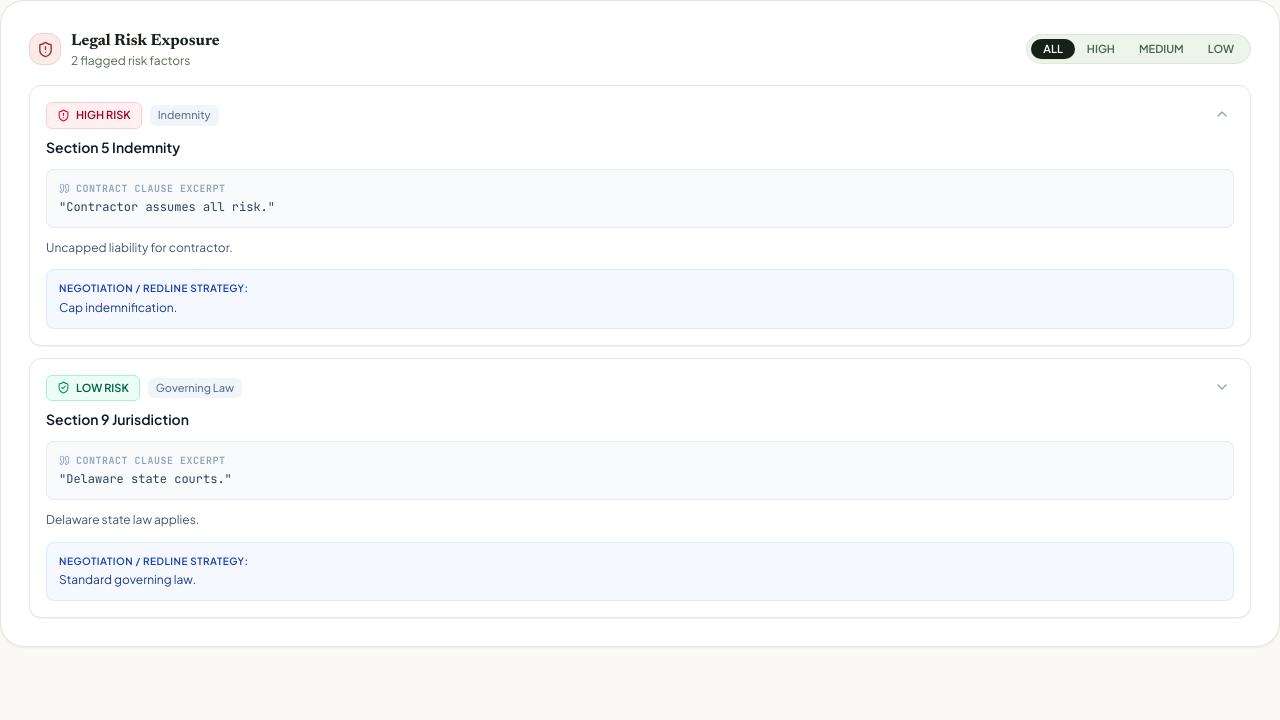
RiskFlagsCard Accessibility & Display › filters risks accurately when severity tab is selected
The width and height of the screenshot is (1280, 720).
Click the button "HIGH".
click(1101, 49)  # box top-left (1075, 39), bottom-right (1127, 59)
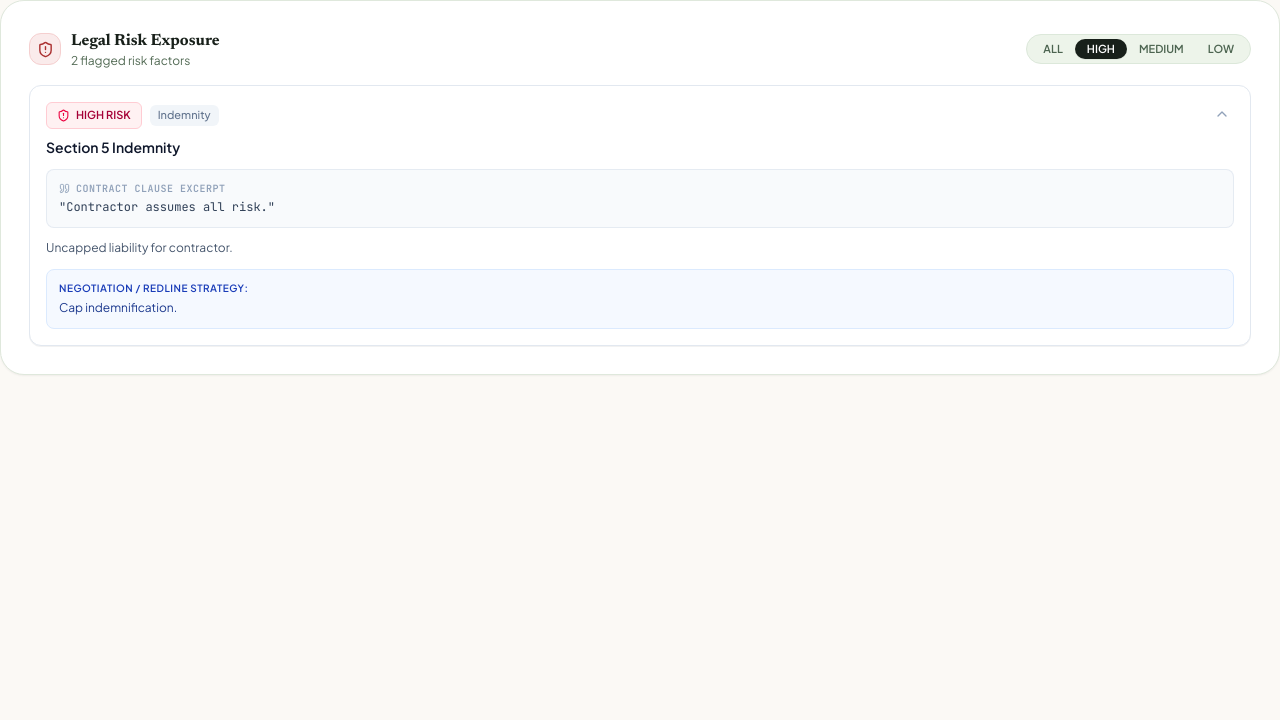
Expected: the heading "Section 5 Indemnity" is shown, top-left (46, 138), bottom-right (180, 156)
Result: the button "Section 9 Jurisdiction" is gone
